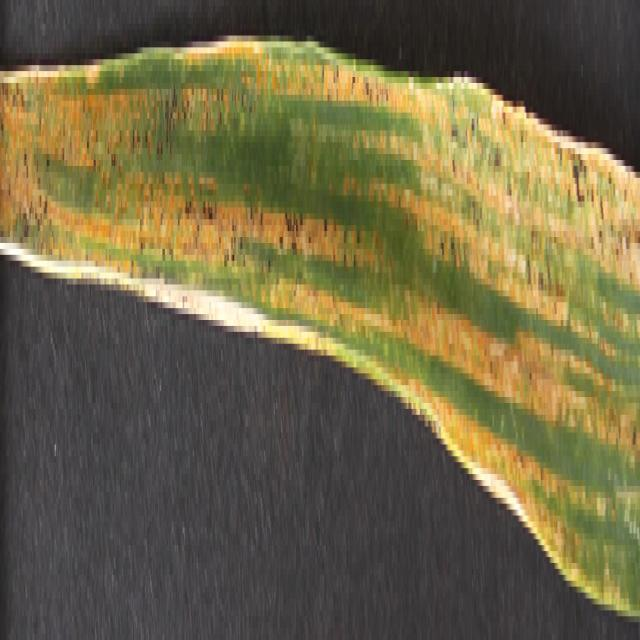leaf rust: (1, 65, 397, 362)
